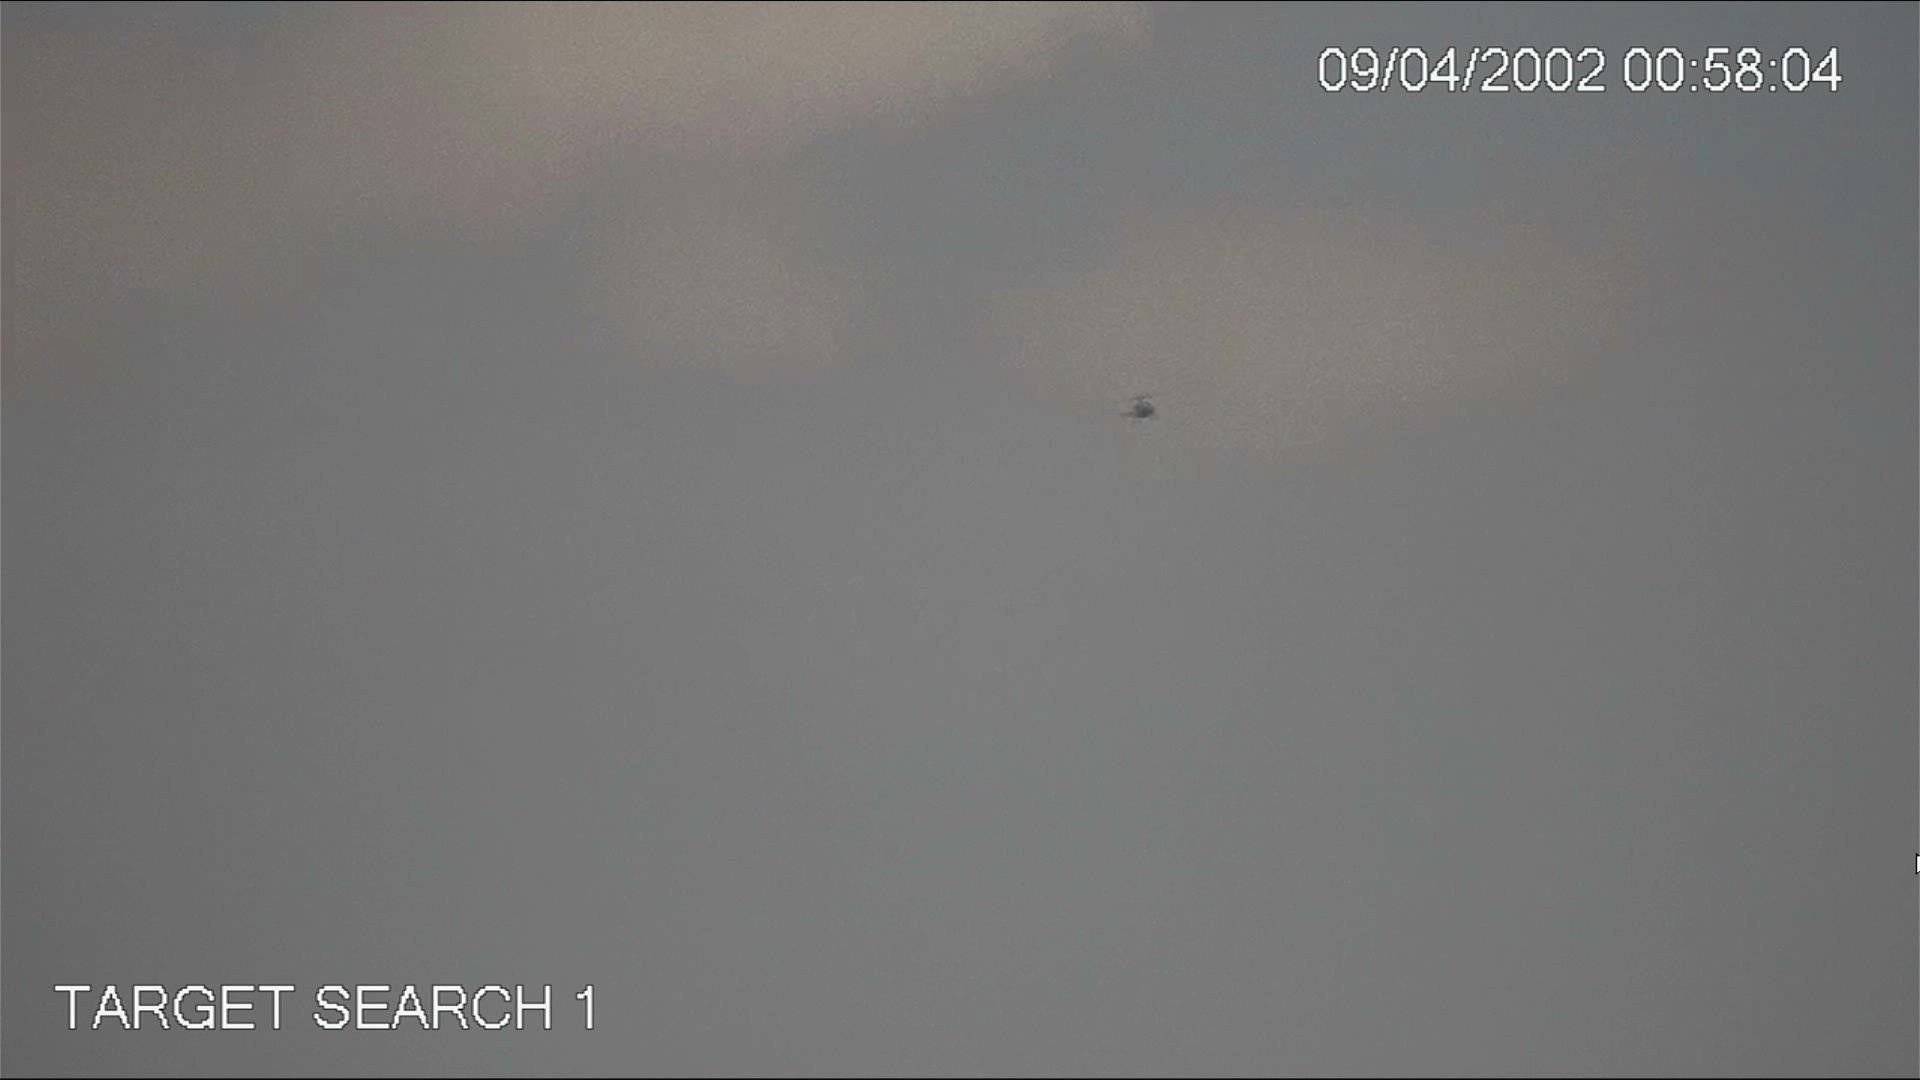SU_30: (1118, 400, 1163, 425)
